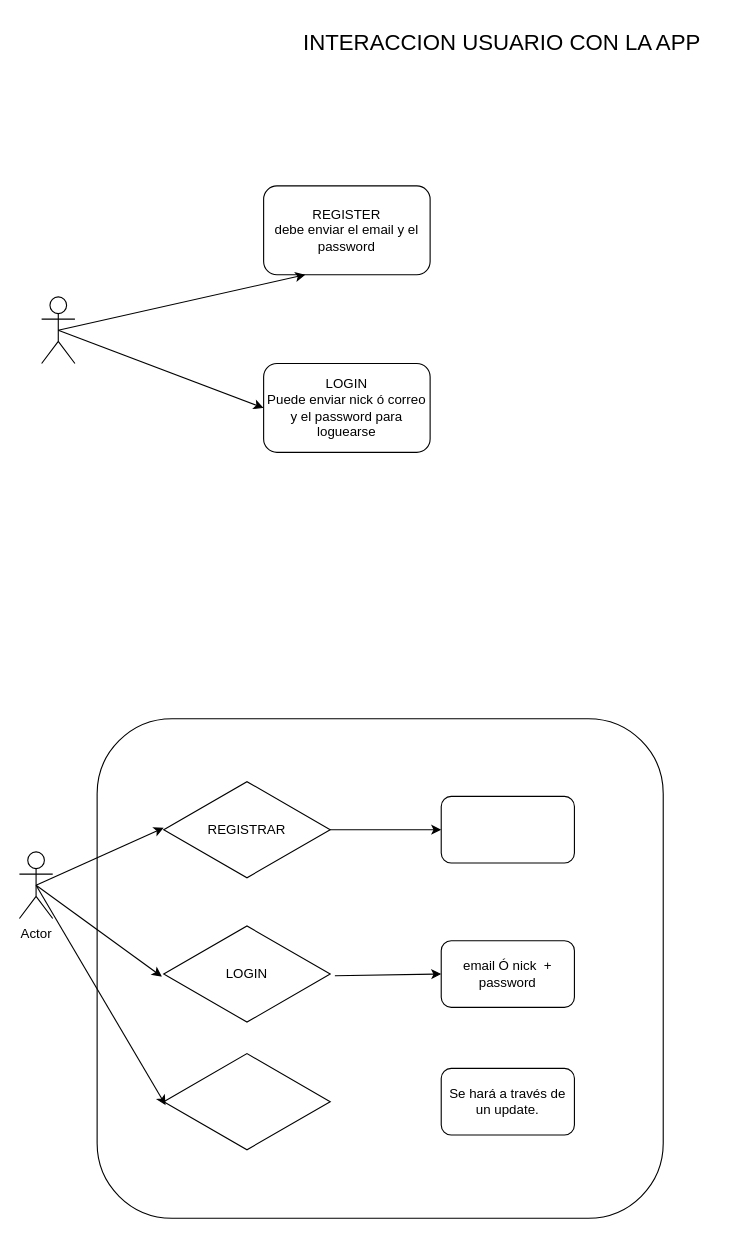
This 749x1238 diagram has some shape labels left out. Here are the shapes that lost their labels. From the top down, the centre of each, then its label:
At point (58, 330): "Usuario".
At point (507, 829): "email + password".
At point (246, 1101): "ACTUALIZAR PERFIL".
